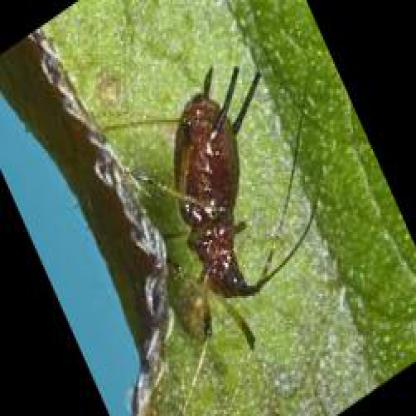uroleucon compositae: (142, 68, 268, 355)
